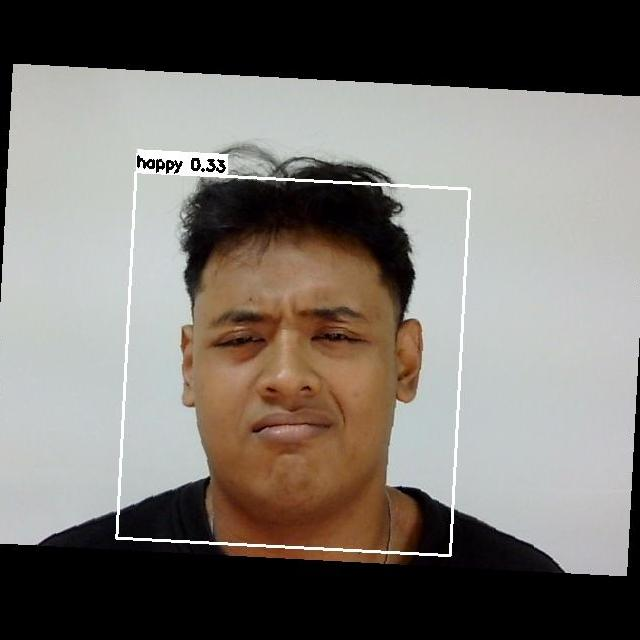Disgust: (195, 283, 402, 475)
